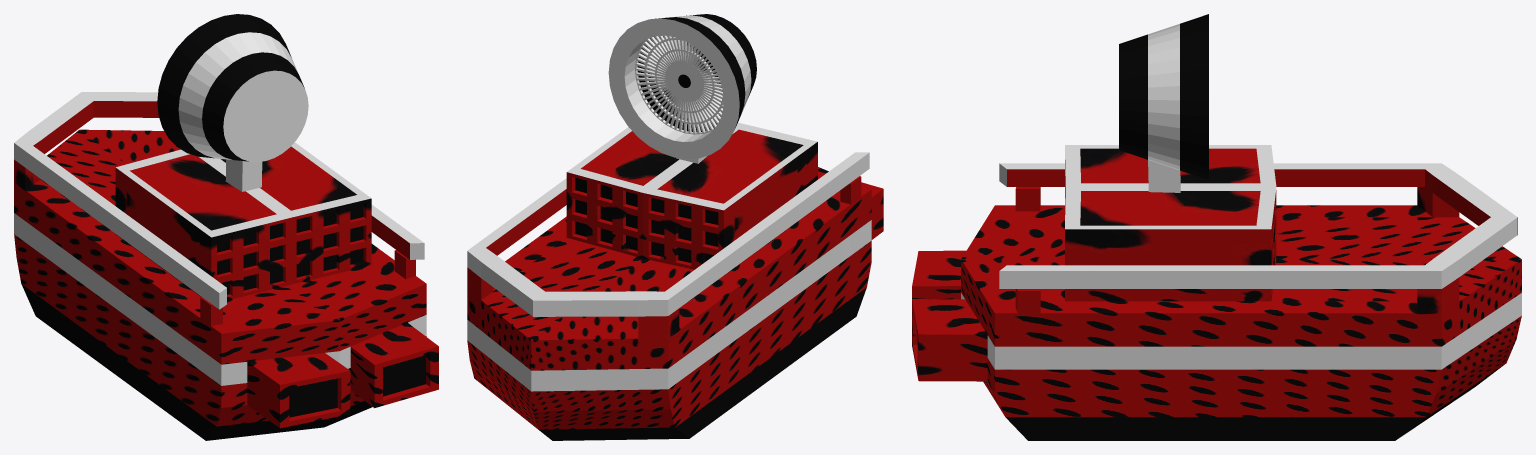
The model's file is RED_DestroyerASW.fbx.
3 views of the same model, side by side, from view 1: azimuth 30°, elevation 25°; view 2: azimuth 150°, elevation 25°; view 3: azimuth 270°, elevation 25° (orthographic). The views are drawn at different scales.
Parts seen in each view (by area): view 1: Cube, Cylinder; view 2: Cube, Cylinder; view 3: Cube, Cylinder.
Part boxes in pixels (x1,y1,x2,y2): Cube: (14, 92, 438, 440); Cylinder: (157, 14, 308, 191); Cube: (467, 122, 883, 440); Cylinder: (608, 14, 756, 163); Cube: (912, 145, 1521, 440); Cylinder: (1119, 14, 1208, 192).
Size of the model in its own units: 362 by 572 by 866.
